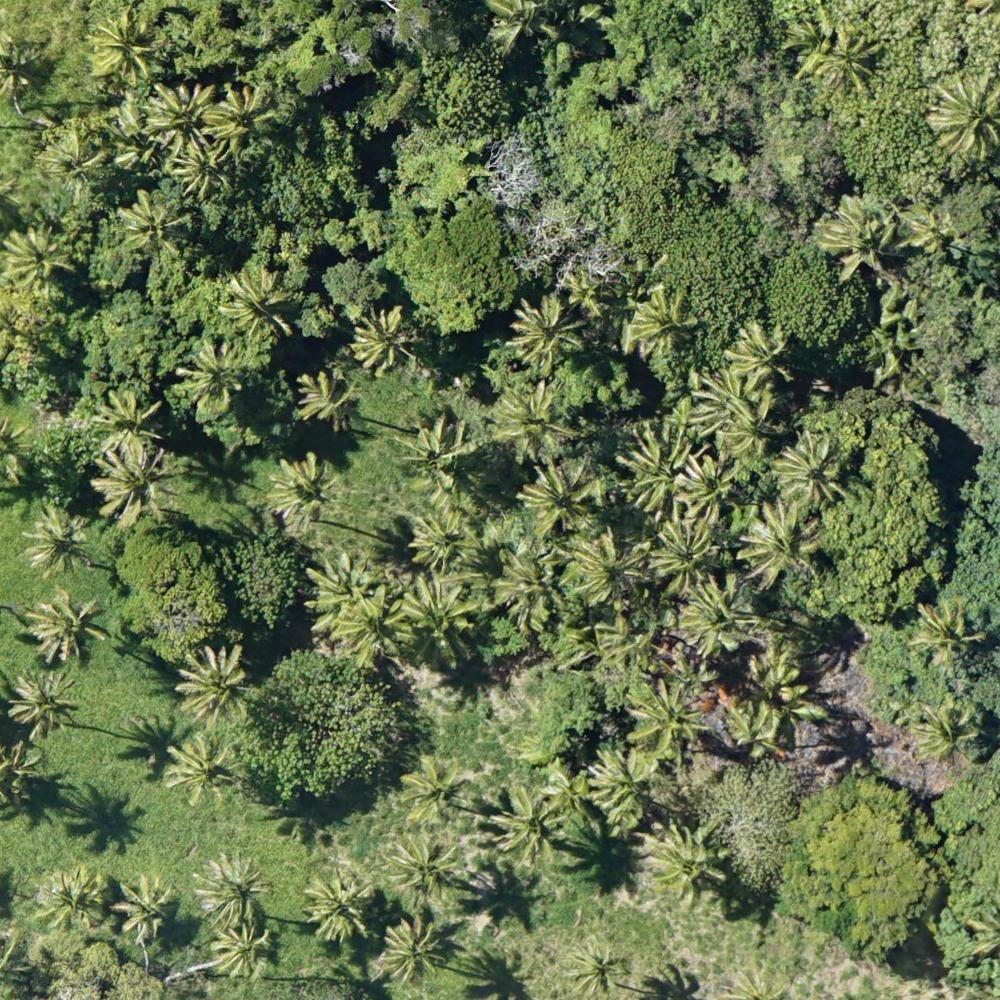Palm: (738, 502, 824, 589), (586, 749, 667, 834), (403, 578, 479, 663), (176, 644, 256, 722), (683, 573, 759, 655), (90, 449, 173, 523), (487, 784, 566, 861), (523, 462, 603, 538), (816, 199, 892, 279), (624, 679, 703, 755), (491, 548, 566, 627), (507, 297, 585, 372), (622, 428, 692, 511), (30, 590, 107, 665), (932, 74, 1000, 158), (223, 266, 300, 339), (653, 824, 730, 897), (192, 855, 267, 929), (164, 733, 240, 806), (724, 319, 800, 391), (305, 557, 382, 628), (493, 388, 571, 457), (650, 515, 719, 593), (338, 594, 413, 665), (2, 226, 76, 297), (387, 831, 458, 905), (397, 415, 471, 486), (775, 431, 846, 505), (268, 452, 337, 528), (909, 598, 985, 666), (92, 385, 165, 452), (573, 533, 640, 605), (626, 289, 697, 356), (306, 873, 374, 942), (208, 82, 276, 149), (402, 755, 469, 823), (84, 14, 154, 79), (22, 510, 91, 575), (145, 83, 212, 149), (352, 305, 418, 372), (118, 192, 188, 255), (115, 876, 182, 941), (383, 918, 451, 982), (178, 341, 241, 410), (919, 695, 982, 762), (724, 688, 789, 752), (40, 864, 104, 928), (12, 673, 76, 736), (41, 129, 102, 195), (409, 511, 473, 573), (674, 454, 734, 519), (208, 922, 276, 979), (295, 368, 356, 431), (565, 939, 630, 998), (171, 140, 235, 198), (821, 35, 885, 93), (723, 394, 781, 455), (905, 207, 955, 252)
